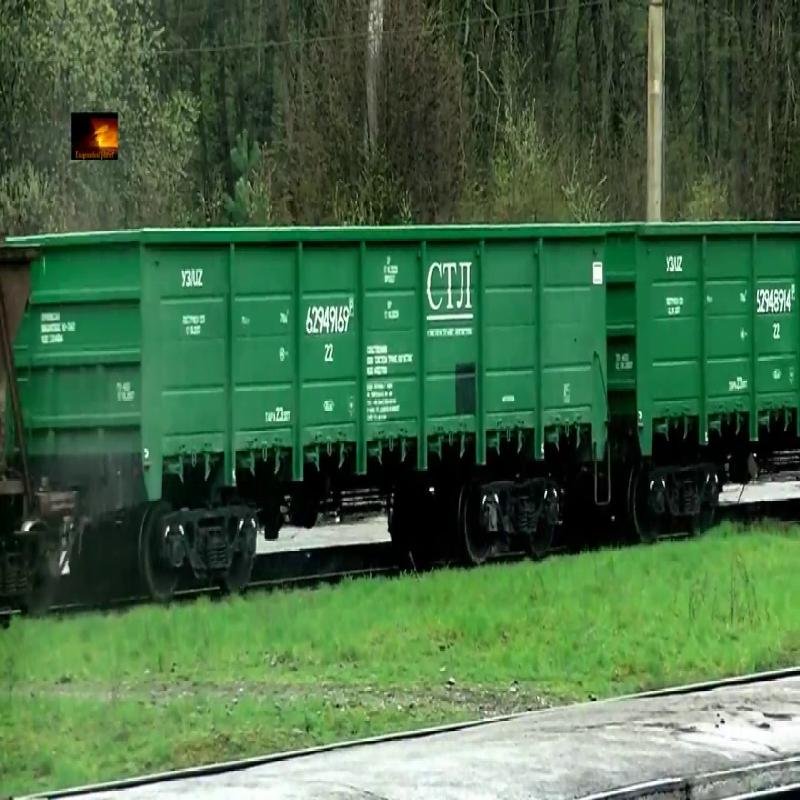train: (12, 224, 611, 521), (611, 222, 800, 512), (1, 239, 47, 511)
